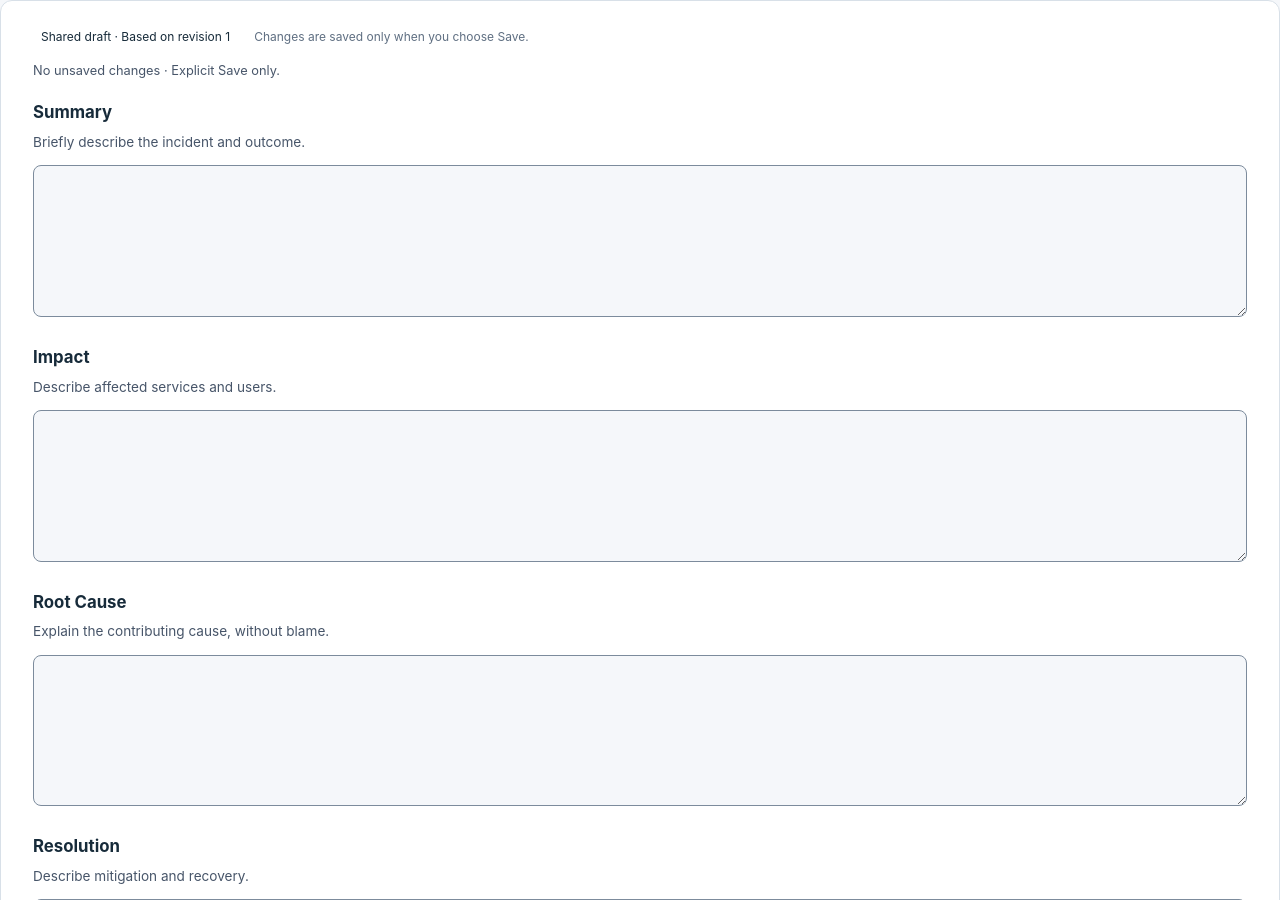
saves explicit fields and expected revision and reports success
In the text box labelled "Summary": (640, 241) [33,165,1247,317], type "Recovered"
(page scrolled)
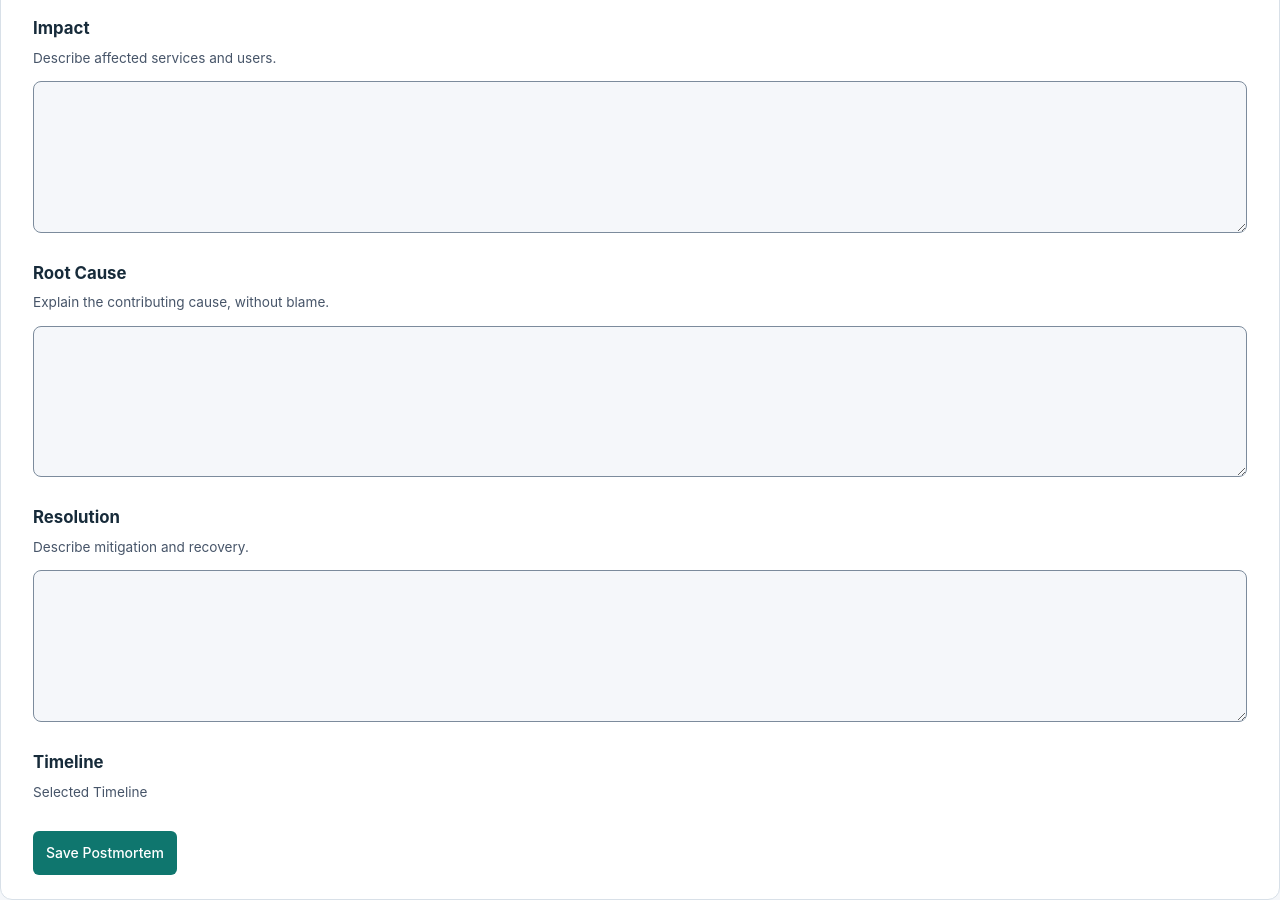
Click the button "Save Postmortem": (105, 853) [33,831,177,875]
(page scrolled)
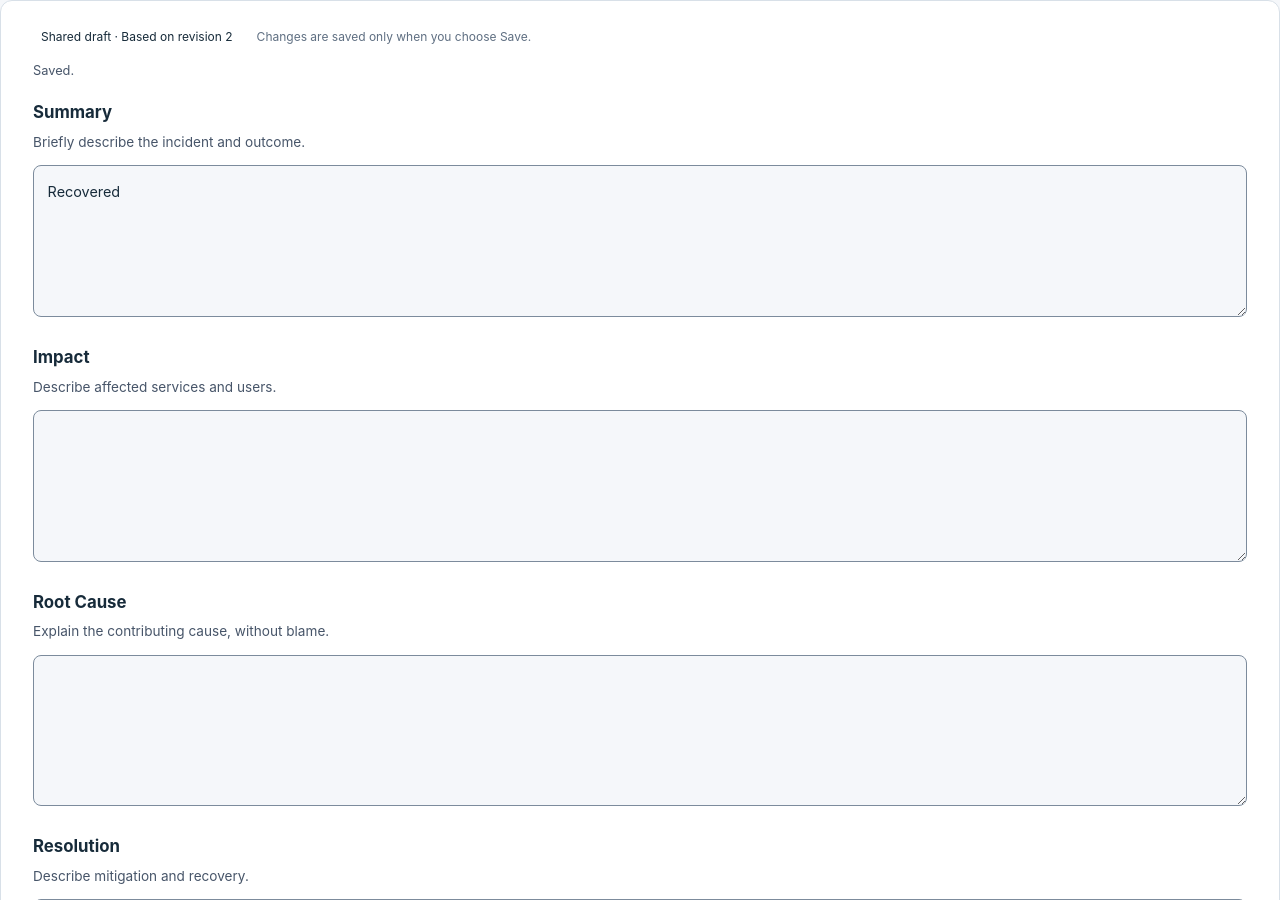
Expected: the text "Saved." is shown, [33,63,74,78]
Now the text "Shared draft · Based on revision 2" is shown, box [33,25,241,49]
